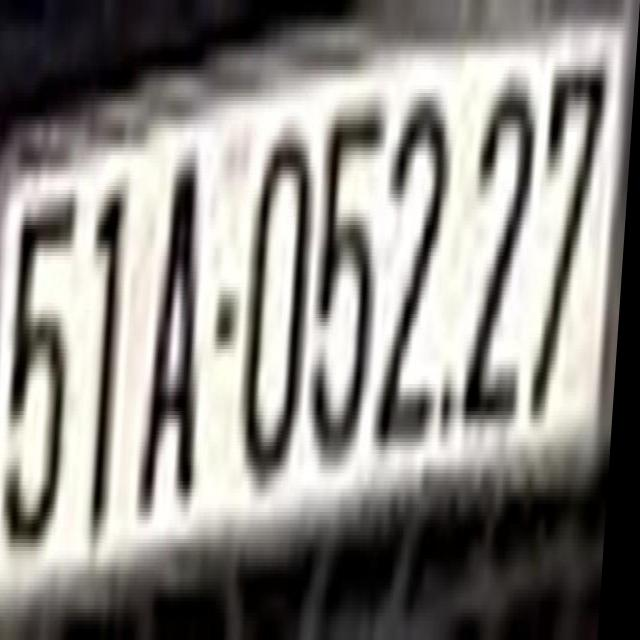0: (240, 105, 316, 492)
1: (83, 171, 135, 544)
2: (378, 89, 458, 446), (463, 86, 541, 434)
5: (315, 93, 389, 481), (5, 182, 80, 555)
7: (532, 54, 607, 430)
A: (145, 132, 220, 504)
